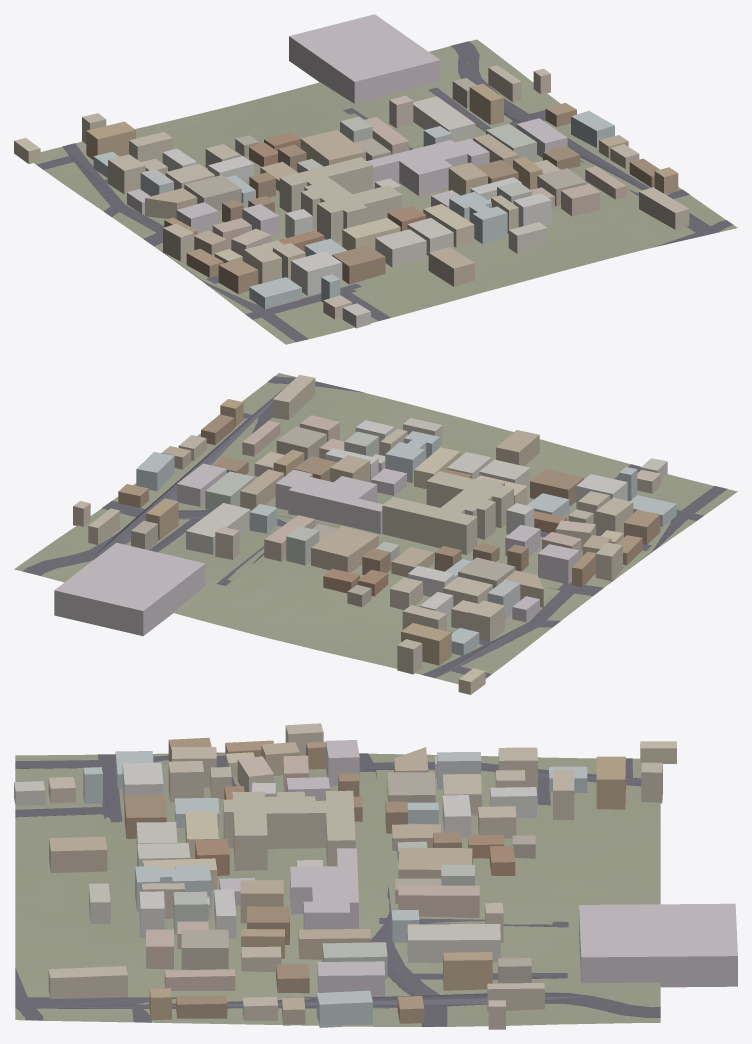
The model's file is chunk_5_5.glb.
The picture shows the model from 3 angles, top to bottom: view 1: azimuth 30°, elevation 25°; view 2: azimuth 150°, elevation 25°; view 3: azimuth 270°, elevation 25°; orthographic projection. The views are drawn at different scales.
Parts seen in each view (by area): view 1: geometry_95, geometry_94, geometry_0, geometry_2, geometry_109, geometry_1, geometry_30, geometry_26, geometry_70, geometry_105, geometry_88, geometry_69 (+51 smaller); view 2: geometry_95, geometry_94, geometry_0, geometry_2, geometry_109, geometry_26, geometry_30, geometry_105, geometry_1, geometry_35, geometry_55, geometry_8 (+54 smaller); view 3: geometry_95, geometry_94, geometry_0, geometry_2, geometry_109, geometry_30, geometry_29, geometry_6, geometry_8, geometry_4, geometry_78, geometry_46 (+77 smaller).
Part boxes in pixels (<box>): geometry_95: <box>33,39,737,344</box>; geometry_94: <box>289,14,440,103</box>; geometry_0: <box>279,157,402,241</box>; geometry_2: <box>367,138,489,195</box>; geometry_109: <box>450,41,719,234</box>; geometry_1: <box>449,192,507,243</box>; geometry_30: <box>413,96,475,142</box>; geometry_26: <box>300,130,365,166</box>; geometry_70: <box>291,251,342,295</box>; geometry_105: <box>62,143,164,232</box>; geometry_88: <box>375,229,426,267</box>; geometry_69: <box>332,245,385,284</box>; geometry_95: <box>14,373,737,684</box>; geometry_94: <box>54,542,205,636</box>; geometry_0: <box>382,471,513,554</box>; geometry_2: <box>275,469,382,534</box>; geometry_109: <box>23,386,286,575</box>; geometry_26: <box>311,526,378,572</box>; geometry_30: <box>186,503,250,554</box>; geometry_105: <box>422,586,574,677</box>; geometry_1: <box>385,431,439,482</box>; geometry_35: <box>401,623,451,665</box>; geometry_55: <box>538,544,579,584</box>; geometry_8: <box>177,463,226,506</box>; geometry_95: <box>15,753,660,1026</box>; geometry_94: <box>579,903,737,987</box>; geometry_0: <box>223,790,355,870</box>; geometry_2: <box>290,848,358,929</box>; geometry_109: <box>15,992,660,1017</box>; geometry_30: <box>407,924,500,962</box>; geometry_29: <box>398,885,479,918</box>; geometry_6: <box>48,966,127,998</box>; geometry_8: <box>317,961,384,996</box>; geometry_4: <box>49,836,107,872</box>; geometry_78: <box>181,929,228,969</box>; geometry_46: <box>316,990,372,1027</box>.
Bounding box in the file's own units: 255 × 20.32 × 280.
